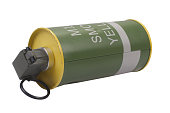e1: (11, 19, 153, 100)
